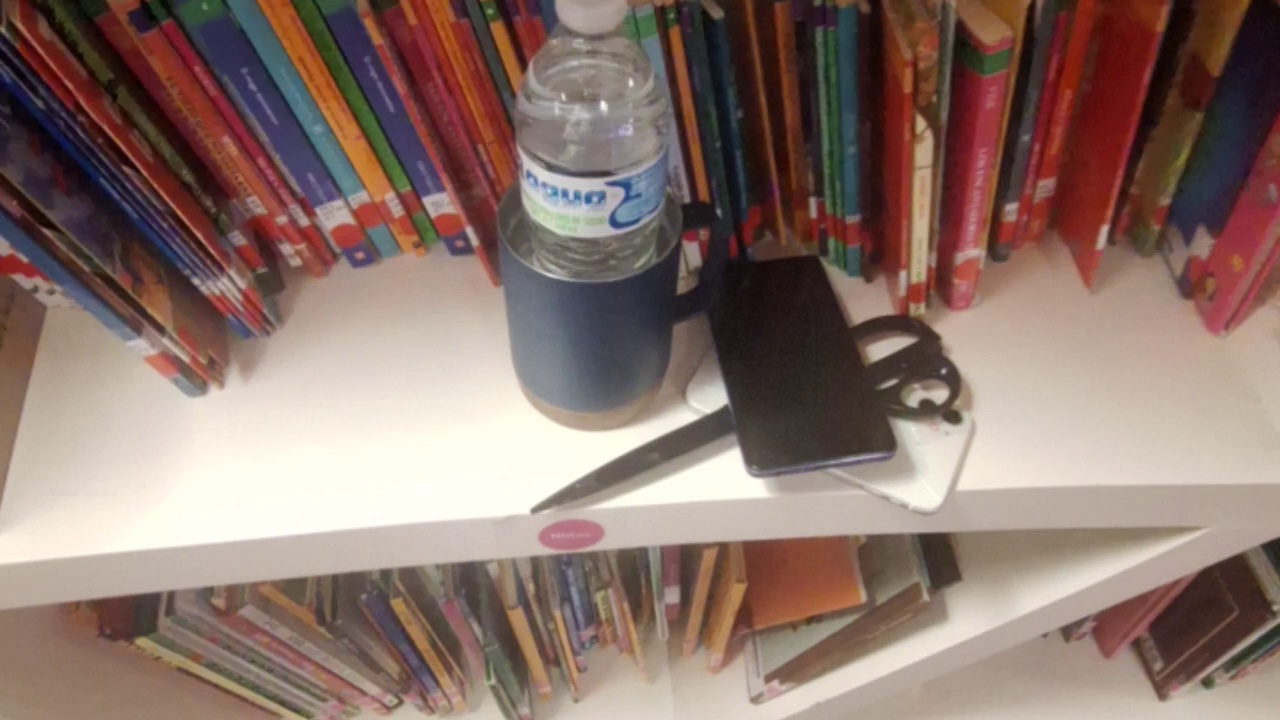botella: (503, 3, 681, 432)
